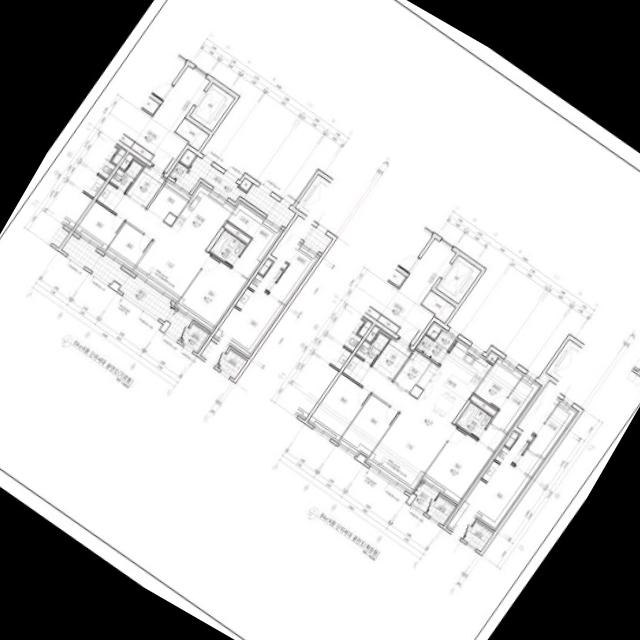background: (0, 0, 640, 640)
space_balconi: (61, 234, 192, 340), (169, 156, 295, 227), (416, 330, 455, 363), (412, 483, 438, 512)
space_bedroom: (422, 423, 506, 502), (175, 255, 248, 333), (309, 374, 370, 440), (339, 395, 398, 455), (74, 201, 124, 252), (104, 222, 152, 271)
space_dressroom: (491, 376, 539, 432), (227, 201, 265, 237)
space_elevator: (189, 83, 234, 131)
space_elevator_hall: (369, 238, 480, 345), (123, 66, 209, 173)
space_front: (126, 165, 166, 207), (372, 339, 411, 379)
space_kitchen: (415, 341, 491, 423), (170, 182, 235, 250)
space_living_room: (358, 366, 456, 491), (112, 193, 210, 303)
space_other: (232, 220, 283, 279), (474, 358, 522, 409), (146, 179, 191, 221), (394, 350, 431, 392), (421, 290, 455, 323), (175, 118, 208, 150), (223, 222, 250, 243), (470, 395, 496, 416), (130, 142, 153, 161), (377, 314, 399, 333), (179, 149, 196, 166), (426, 324, 441, 339), (119, 153, 133, 169), (365, 326, 379, 342), (239, 178, 252, 191), (409, 385, 422, 398), (487, 353, 497, 363), (180, 339, 183, 342)
space_outdoor_room: (426, 495, 455, 524), (182, 323, 210, 353)
space_toilet: (342, 332, 389, 383), (96, 160, 142, 210), (209, 230, 246, 266), (456, 402, 492, 438)
